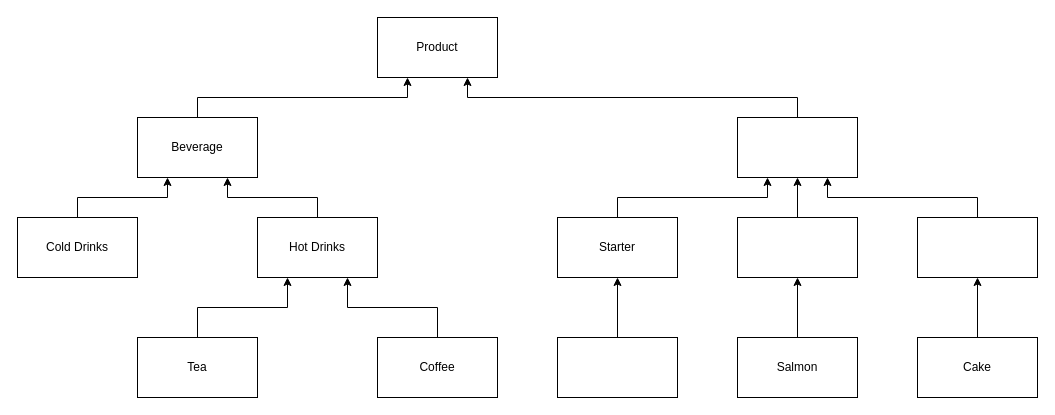
Image size: 1055x415. Some labels were removed from this diagram. The shapes that lost their labels are listed below. From the top down, each one's centre as x and y in pixels, then its label:
point (797, 147): Food
point (797, 247): Main Dish
point (977, 247): Dessert
point (617, 367): Soup
